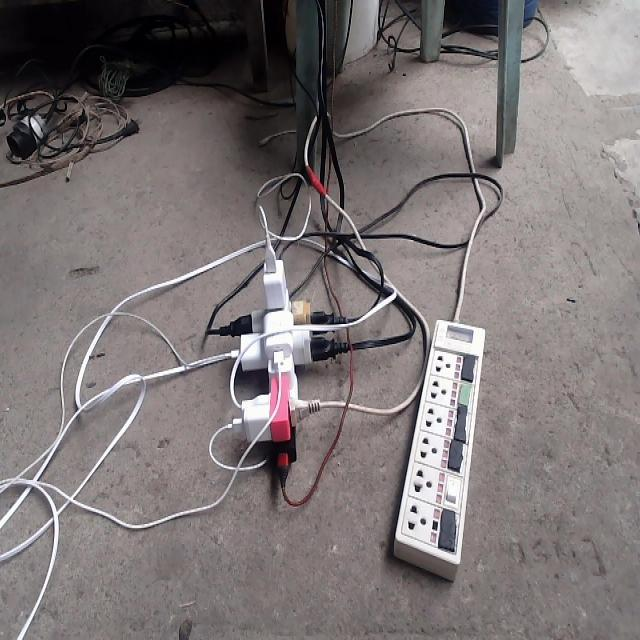-: (217, 242, 337, 474)
